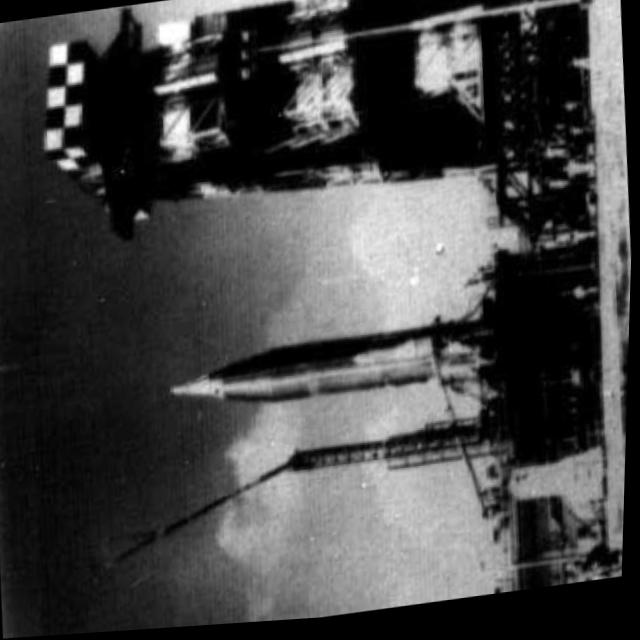missile: (167, 320, 477, 426)
